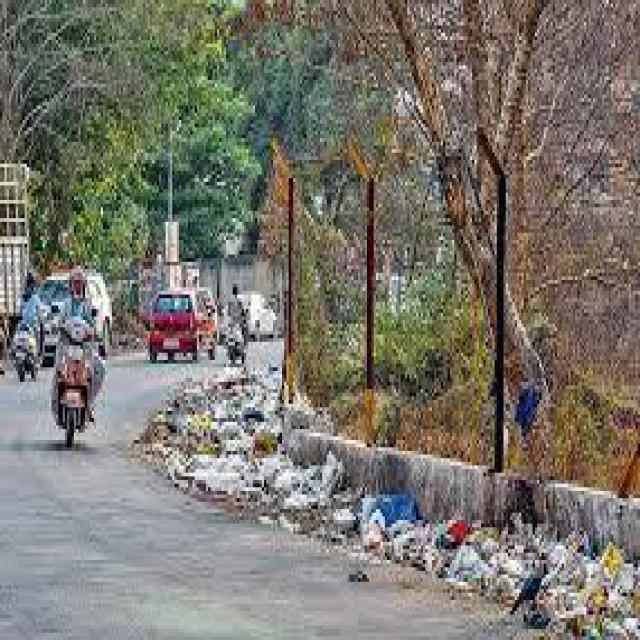garbage: (295, 462, 506, 604), (166, 356, 304, 524), (492, 494, 638, 636)
